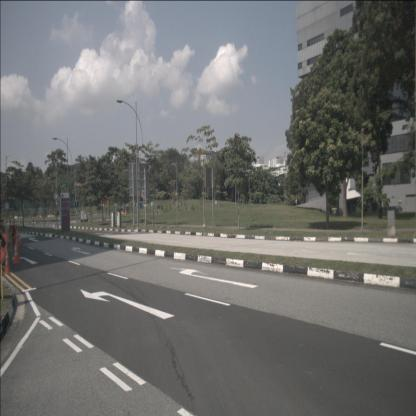cone: (4, 248, 12, 274), (13, 242, 19, 264), (18, 232, 22, 245)
